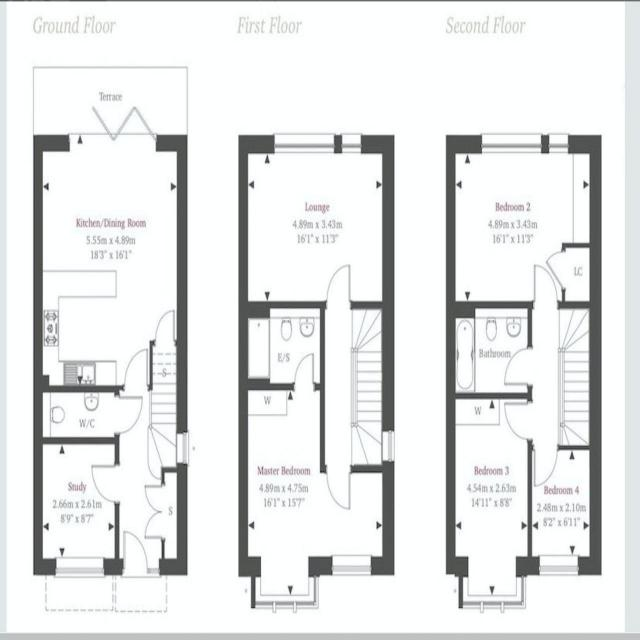DOOR: (502, 343, 533, 389), (89, 460, 120, 505), (120, 531, 149, 576), (121, 346, 150, 390), (503, 399, 533, 441), (531, 445, 560, 488), (325, 261, 352, 307), (325, 465, 352, 511), (533, 263, 559, 309), (116, 395, 143, 437), (292, 350, 317, 391)
FOLDING DOOR: (67, 90, 168, 152)
ROOM: (238, 350, 395, 609), (33, 133, 188, 392), (446, 134, 602, 318), (446, 392, 533, 610), (528, 441, 602, 576)
WINDOW: (479, 132, 543, 154), (271, 133, 337, 154), (53, 557, 105, 578), (537, 553, 580, 576), (329, 554, 373, 575), (380, 428, 396, 466), (176, 429, 190, 467), (339, 133, 363, 154), (548, 133, 570, 155)
